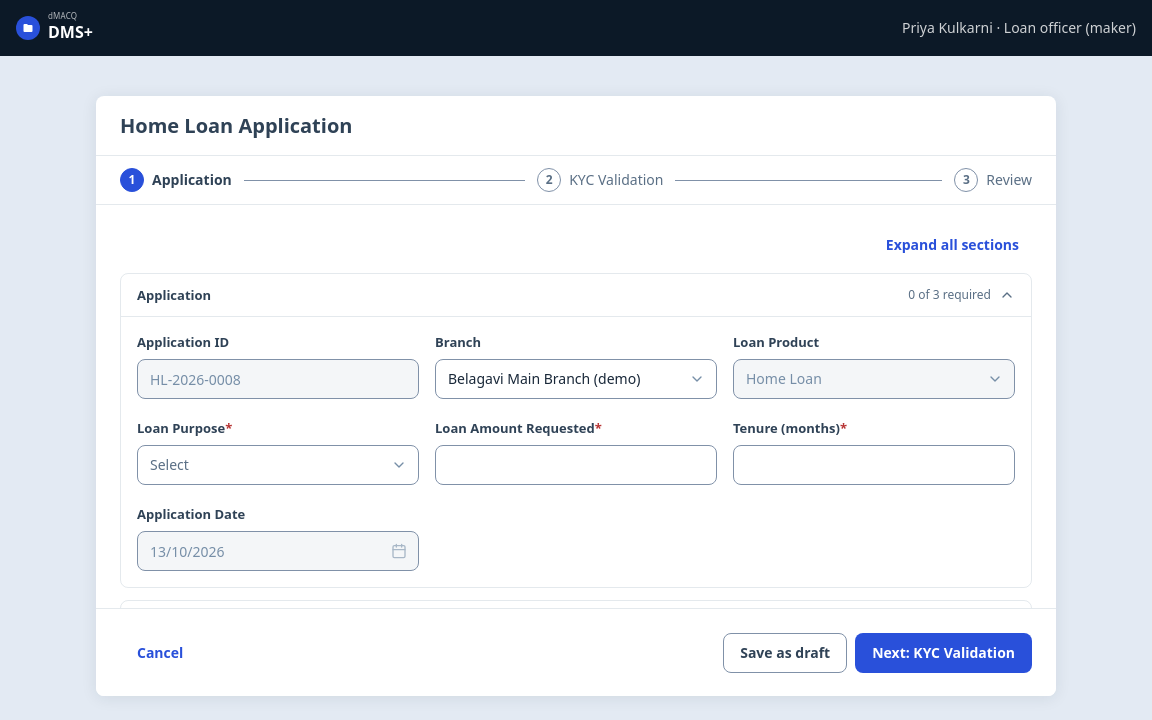
Scenario: Reset demo, a scenario fill and Start new application start the page afresh › a scenario fill leaves the sections as they are, so the filled values can be seen
The image size is (1152, 720).
Step 1. Click the button "Expand all sections" → [952, 245], box [873,229,1032,261]
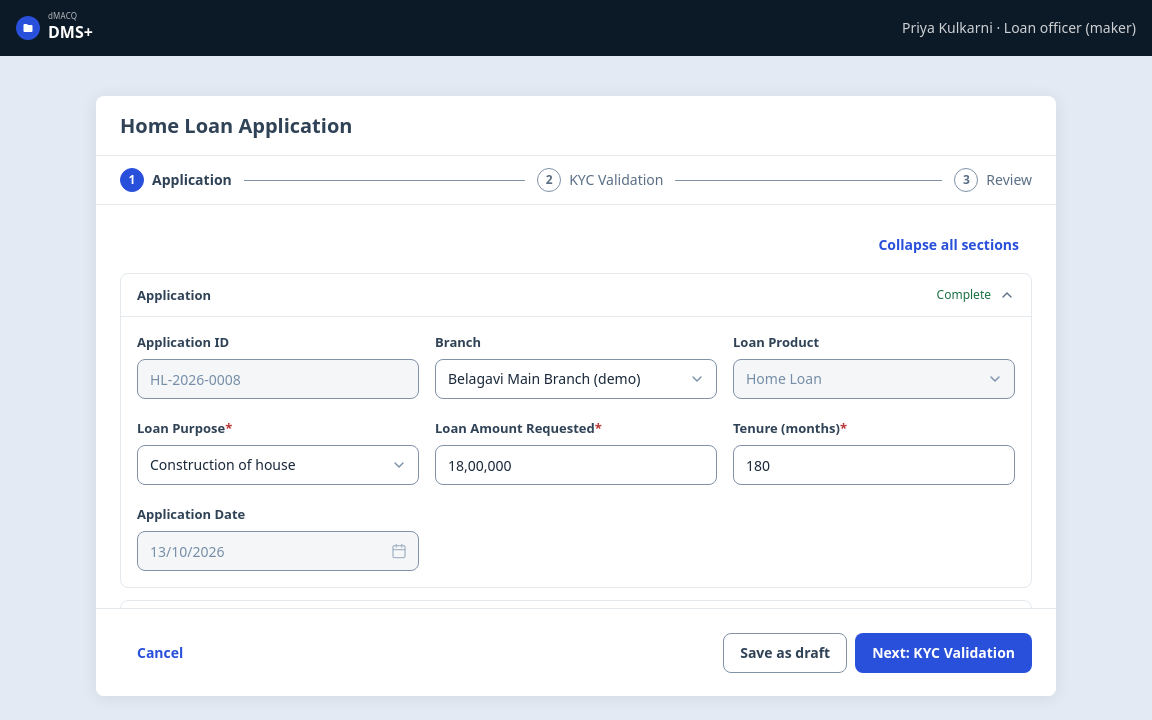
expect the button "Collapse all sections" is shown: met, box [866,229,1032,261]
